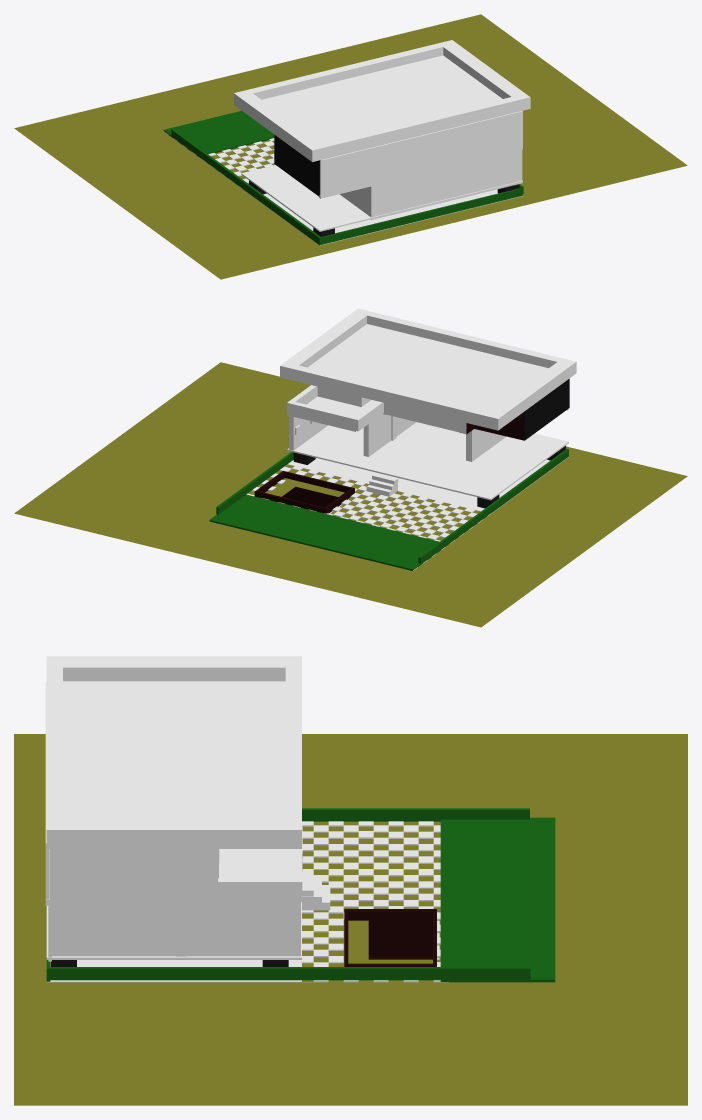
File: building.obj
3 renders of one model, top to bottom at view 1: azimuth 30°, elevation 25°; view 2: azimuth 150°, elevation 25°; view 3: azimuth 270°, elevation 25°, orthographic. The views are drawn at different scales.
Parts seen in each view (by area): view 1: Plane; view 2: Plane; view 3: Plane.
Part boxes in pixels (x1,y1,x2,y2): Plane: (14, 14, 687, 279); Plane: (14, 308, 687, 627); Plane: (14, 656, 687, 1105).
Size of the model in its own units: 180 by 51.64 by 138.
